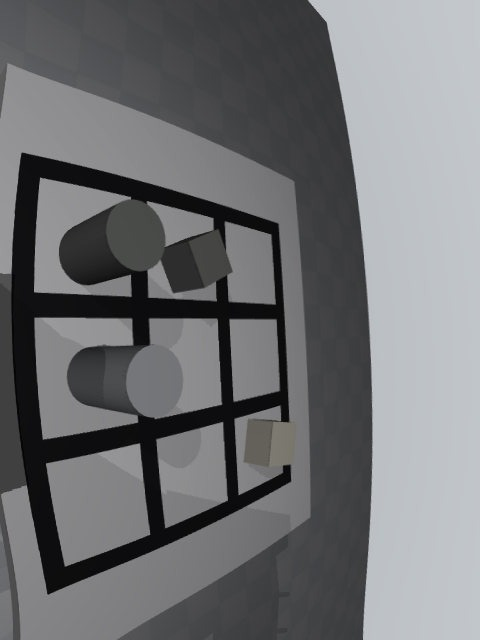can: (67, 344, 183, 418)
cube: (161, 229, 233, 294)
cylinder: (59, 199, 166, 285)
foam: (244, 419, 297, 467)
